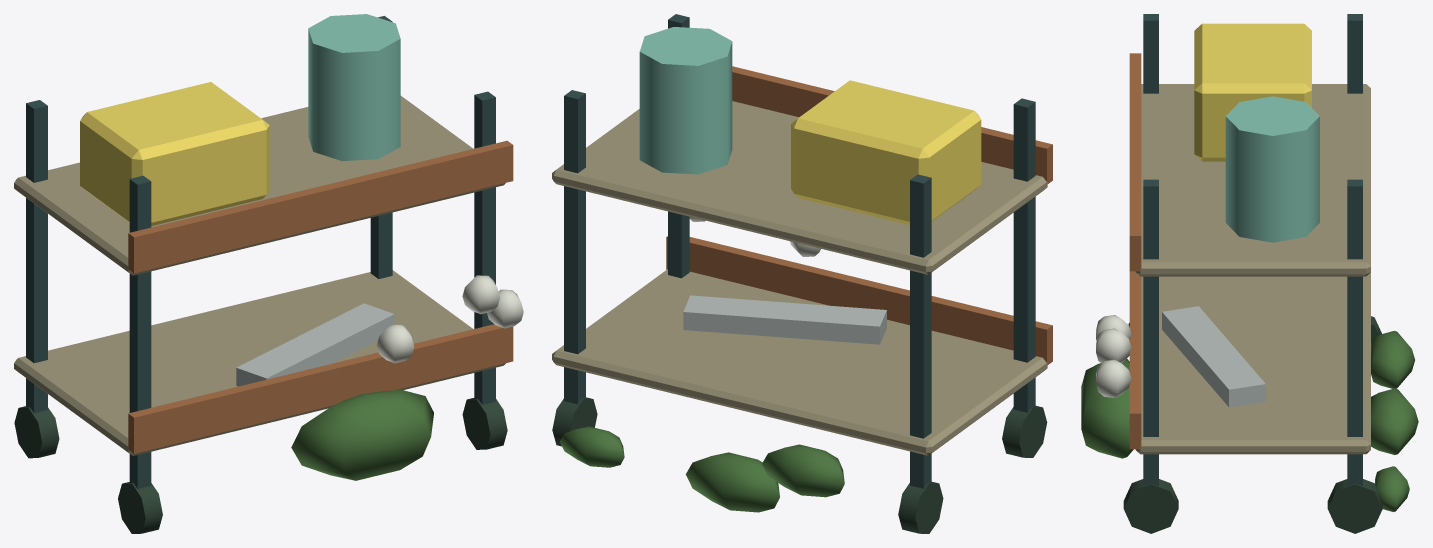
File: dr_cart.glb
The picture shows the model from 3 angles, left to right: view 1: azimuth 30°, elevation 25°; view 2: azimuth 150°, elevation 25°; view 3: azimuth 270°, elevation 25°; orthographic projection.
Parts seen in each view (by area): view 1: dr_cart; view 2: dr_cart; view 3: dr_cart.
Part boxes in pixels (x1,y1,x2,y2): dr_cart: (14, 14, 523, 533); dr_cart: (552, 14, 1052, 533); dr_cart: (1081, 14, 1418, 533).
Bounding box in the file's own units: 1.1 × 1.08 × 0.8599.
